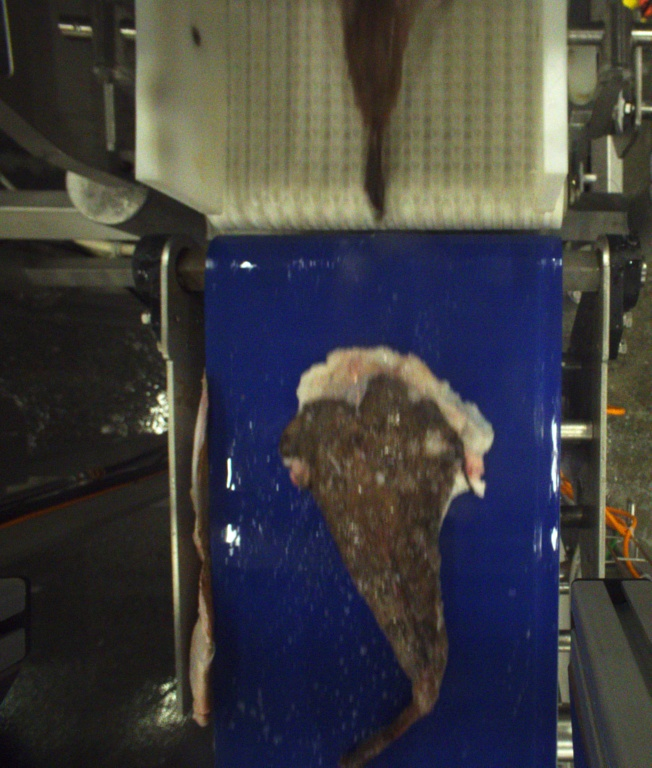ANF: (333, 0, 412, 222)
